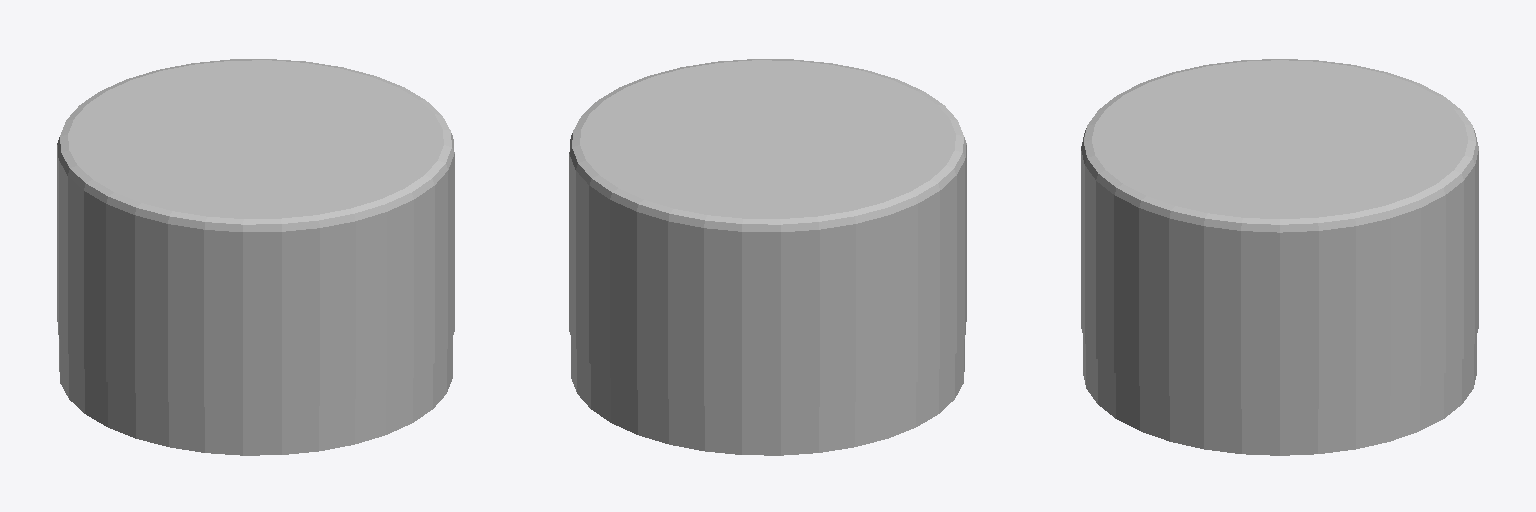
File: mdl_tapa_liner_af6_pn_y_pr_1816_mm.obj
3 renders of one model, left to right at view 1: azimuth 30°, elevation 25°; view 2: azimuth 150°, elevation 25°; view 3: azimuth 270°, elevation 25°, orthographic.
Parts seen in each view (by area): view 1: mdl_tapa_liner_af6_pn_y_pr_1816_mm; view 2: mdl_tapa_liner_af6_pn_y_pr_1816_mm; view 3: mdl_tapa_liner_af6_pn_y_pr_1816_mm.
Part boxes in pixels (left/top/right/bottom): mdl_tapa_liner_af6_pn_y_pr_1816_mm: left=57, top=59, right=454, bottom=455; mdl_tapa_liner_af6_pn_y_pr_1816_mm: left=569, top=59, right=966, bottom=455; mdl_tapa_liner_af6_pn_y_pr_1816_mm: left=1081, top=59, right=1478, bottom=455.
Bounding box in the file's own units: 3.1 × 2 × 3.1.